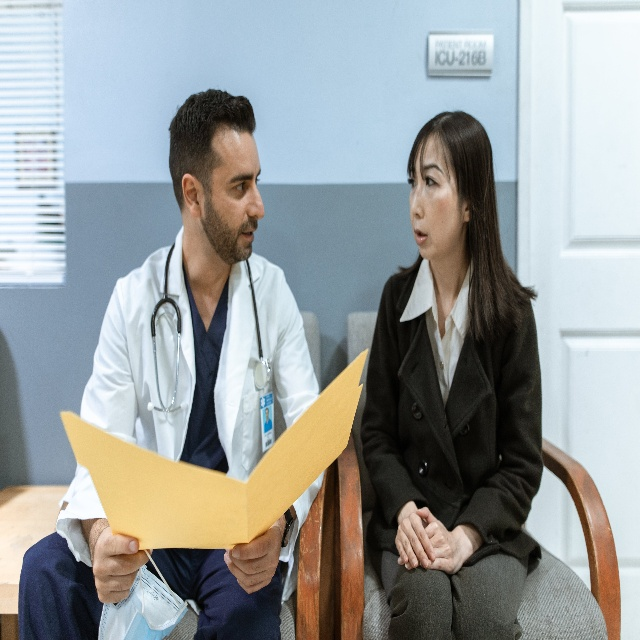Sin_guantes: (396, 505, 466, 576), (94, 527, 153, 604), (224, 522, 280, 597), (396, 510, 433, 574)
